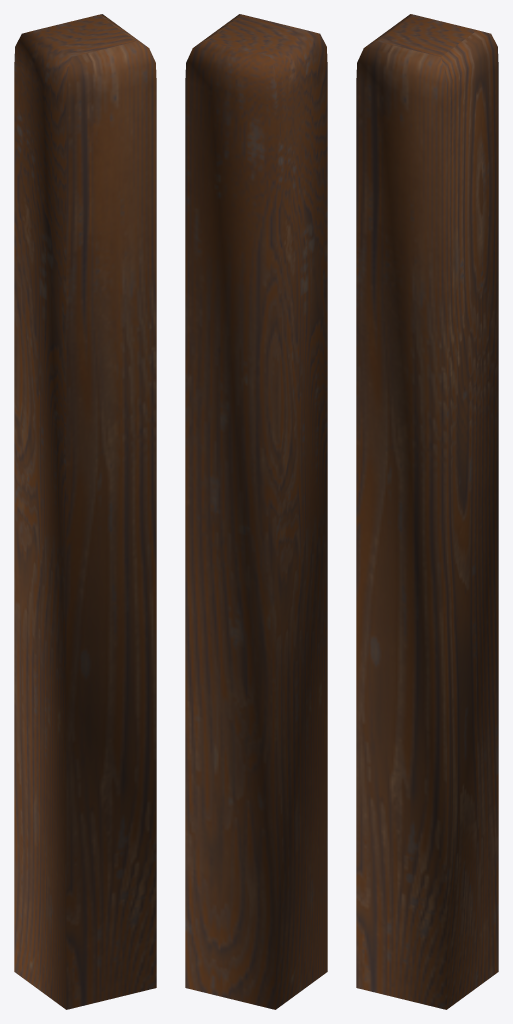
Rendered from woodenPole.fbx.
The picture shows the model from 3 angles, left to right: view 1: azimuth 30°, elevation 25°; view 2: azimuth 150°, elevation 25°; view 3: azimuth 330°, elevation 25°; orthographic projection.
Visible parts, largest first — view 1: Pole; view 2: Pole; view 3: Pole.
Boxes of the visible parts, bbox=[...] form: Pole: bbox=[14, 14, 156, 1009]; Pole: bbox=[185, 14, 327, 1009]; Pole: bbox=[356, 14, 498, 1009].
Size of the model in its own units: 20 by 200 by 20.
